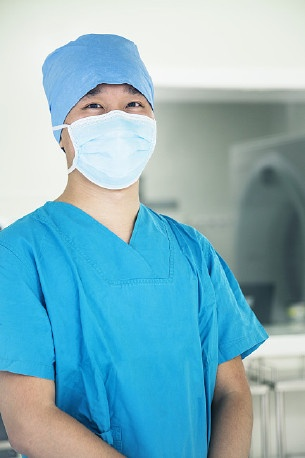Mask: (59, 83, 163, 187)
